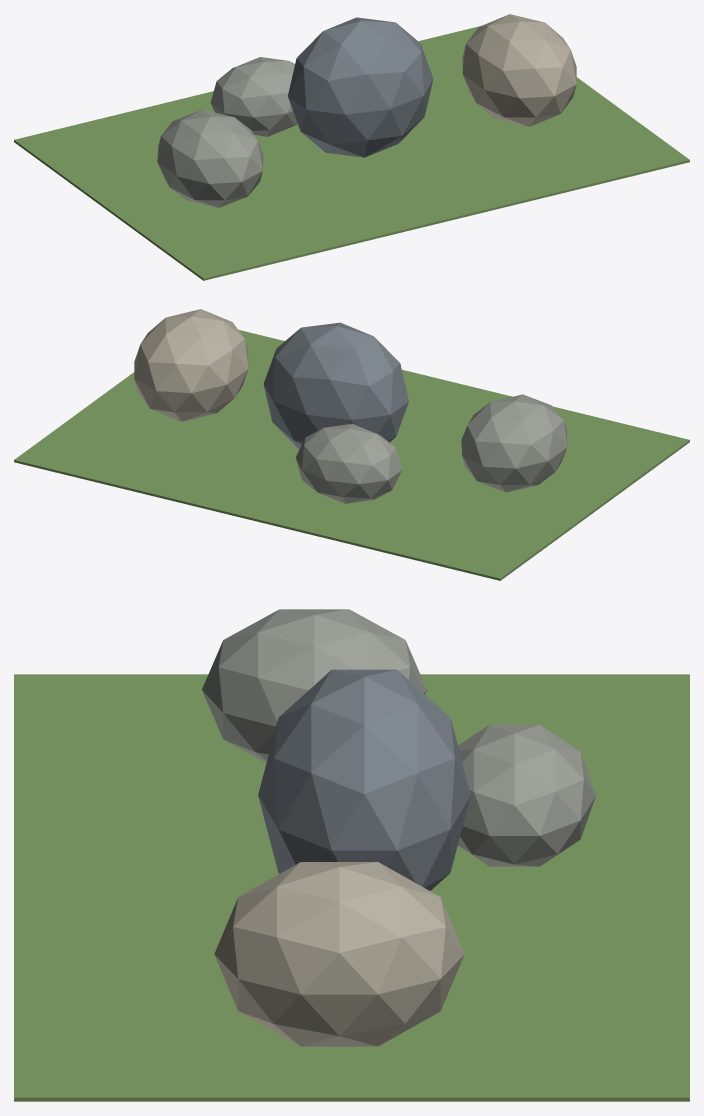
The model's file is FarRockMass.glb.
3 renders of one model, top to bottom at view 1: azimuth 30°, elevation 25°; view 2: azimuth 150°, elevation 25°; view 3: azimuth 270°, elevation 25°, orthographic. The views are drawn at different scales.
Visible parts, largest first — view 1: FTF_Distant_RockMass_80m; view 2: FTF_Distant_RockMass_80m; view 3: FTF_Distant_RockMass_80m.
Boxes of the visible parts, x1=… form: FTF_Distant_RockMass_80m: x1=14, y1=14, x2=689, y2=280; FTF_Distant_RockMass_80m: x1=14, y1=309, x2=689, y2=580; FTF_Distant_RockMass_80m: x1=14, y1=609, x2=689, y2=1101.
Size of the model in its own units: 80 by 20.9 by 54.
